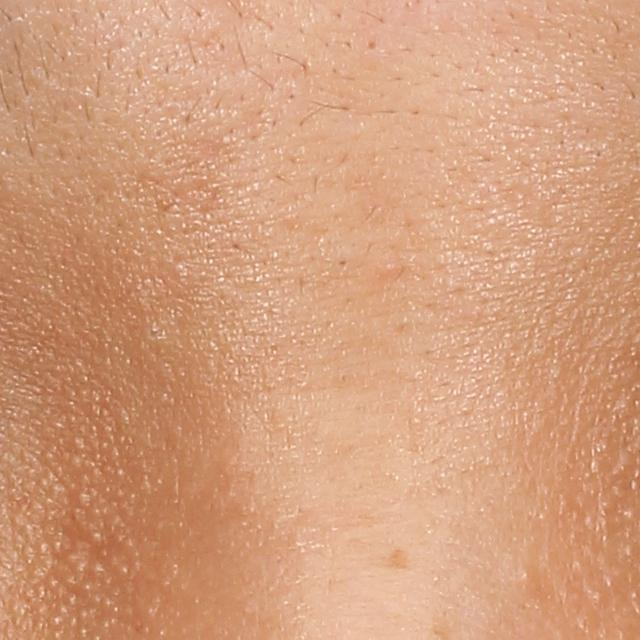comedo: (380, 251, 402, 276), (362, 32, 379, 59), (335, 247, 353, 271), (518, 566, 537, 586)
melasma: (380, 543, 413, 572)
